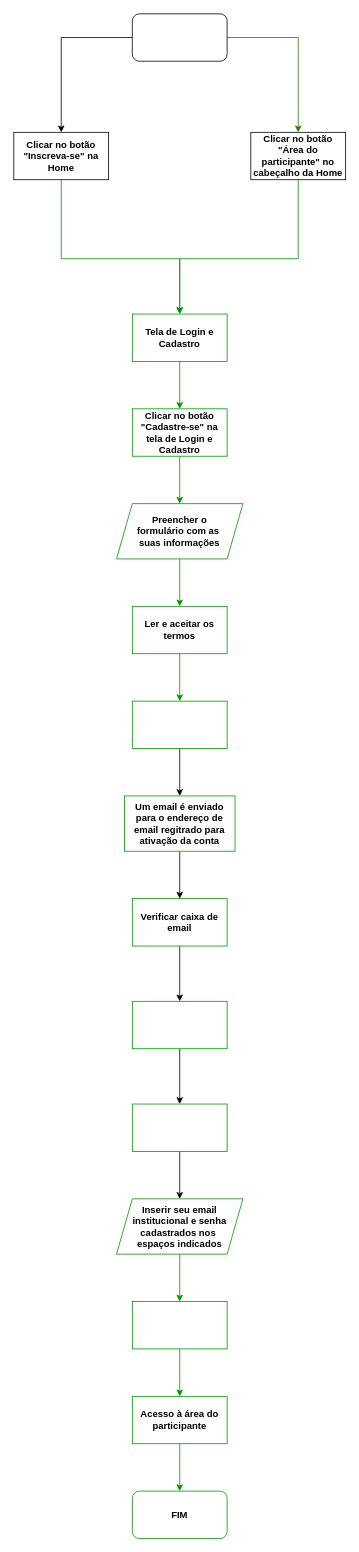
Image size: 359x1552. Some labels were removed from this diagram. The centre of each missing label's shape, as x and y in pixels:
Clicar no botão "Ativar conta" ou link para ativar a conta: (x=179, y=1025)
Fazer login, para acessar à área do participante: (x=179, y=1325)
Finalizar cadastro: (x=179, y=724)
HOME: (x=179, y=37)
Você será redirecionado para a tela de Login e Cadastro: (x=179, y=1127)
